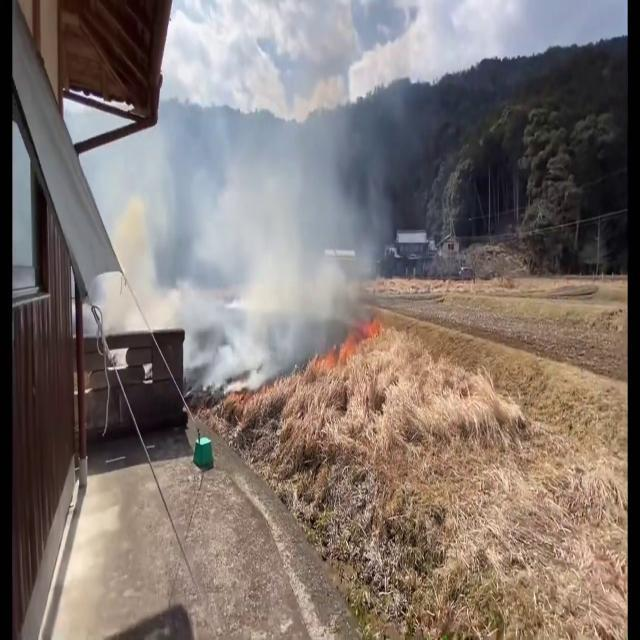Fire: (333, 285, 398, 363)
Smoke: (130, 49, 403, 388)
